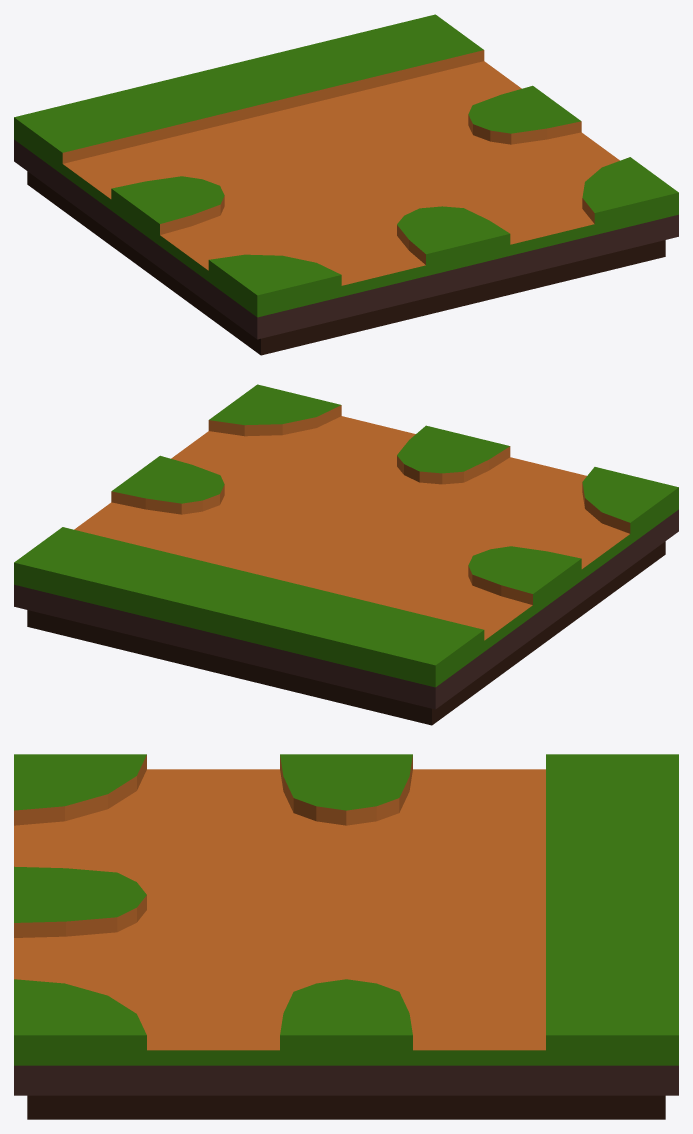
The model's file is Tile_Grass_Road_T.fbx.
3 views of the same model, one above another, from view 1: azimuth 30°, elevation 25°; view 2: azimuth 150°, elevation 25°; view 3: azimuth 270°, elevation 25° (orthographic). The views are drawn at different scales.
Visible parts, largest first — view 1: Tile_Grass_Road_T; view 2: Tile_Grass_Road_T; view 3: Tile_Grass_Road_T.
Part boxes in pixels (box(x1,y1,x2,y2)): Tile_Grass_Road_T: box(14, 14, 678, 355); Tile_Grass_Road_T: box(14, 384, 678, 725); Tile_Grass_Road_T: box(14, 754, 678, 1119).
Bounding box in the file's own units: 100 × 14.9 × 100.
